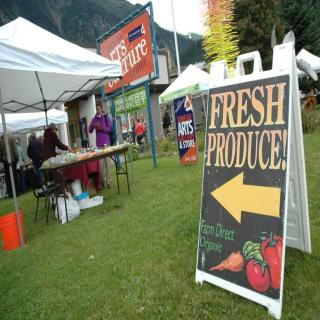tomato: (245, 256, 272, 291)
